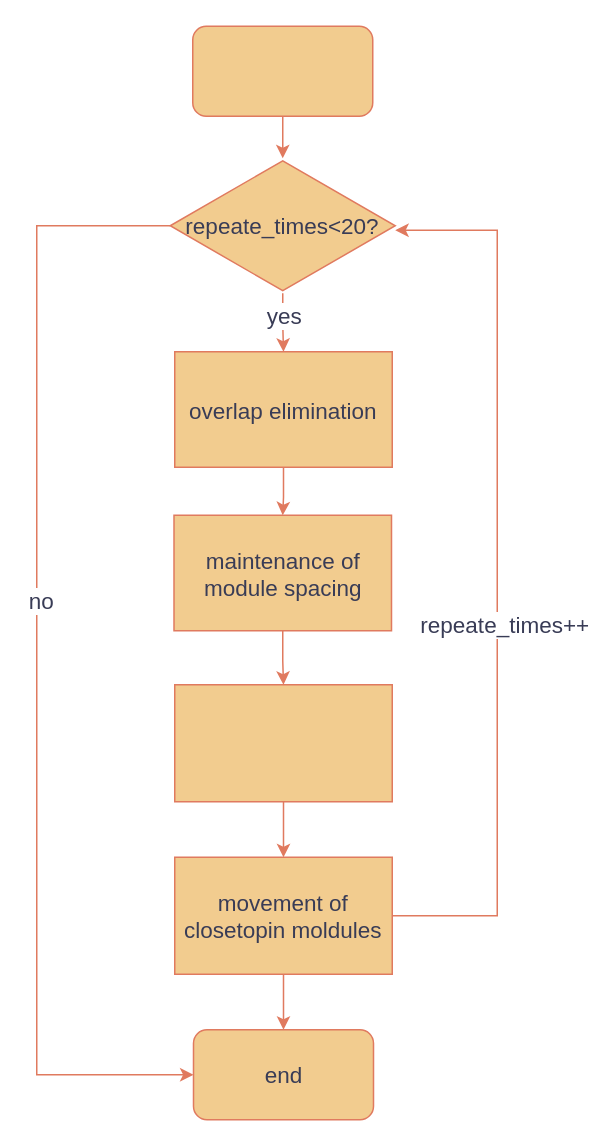
The diagram is 615 pixels wide and 1146 high, and some of its shapes have lost their labels. Each missing label, with the box of its shape:
movement of modules located outside the boundary: (173, 683, 392, 802)
start: (191, 25, 373, 116)
